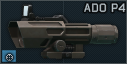NcSTAR ADO P4 Sniper 3-9x42 riflescope: (0, 0, 127, 64)
